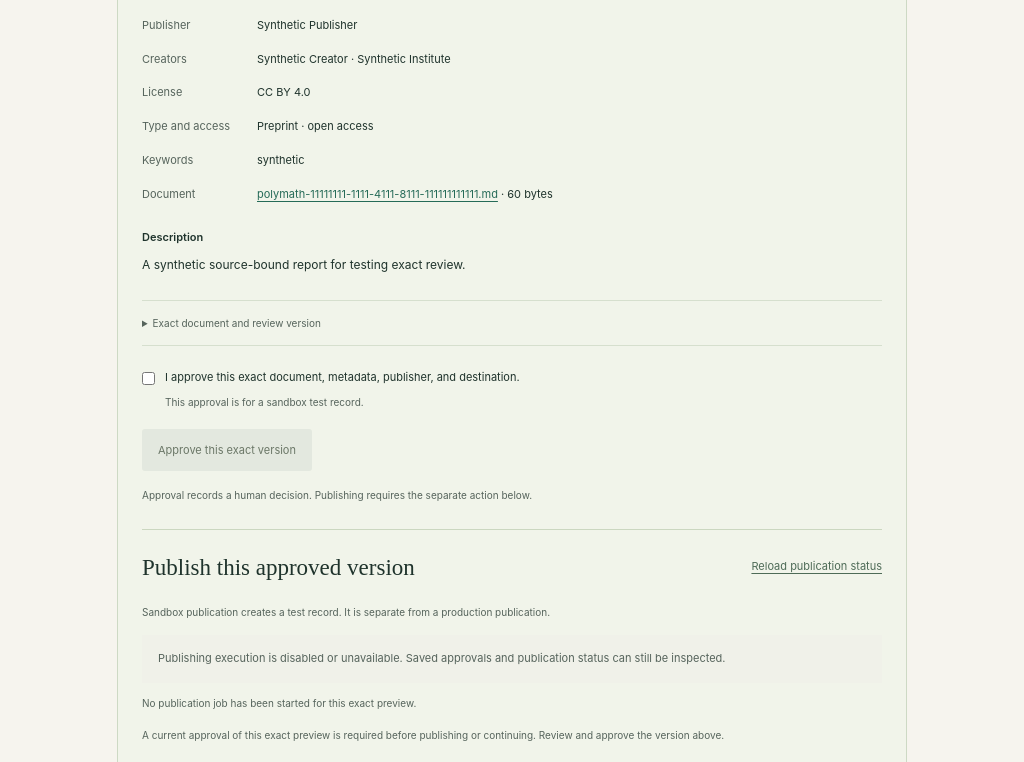
human approval of exact saved publication versions › removes a reviewed sandbox preview as soon as its destination changes
This screenshot has width=1024, height=762.
(page scrolled)
Click the checkbox labelled "I approve this exact document, metadata, publisher, and destination".
click(148, 379)  # box [142,372,155,385]
(page scrolled)
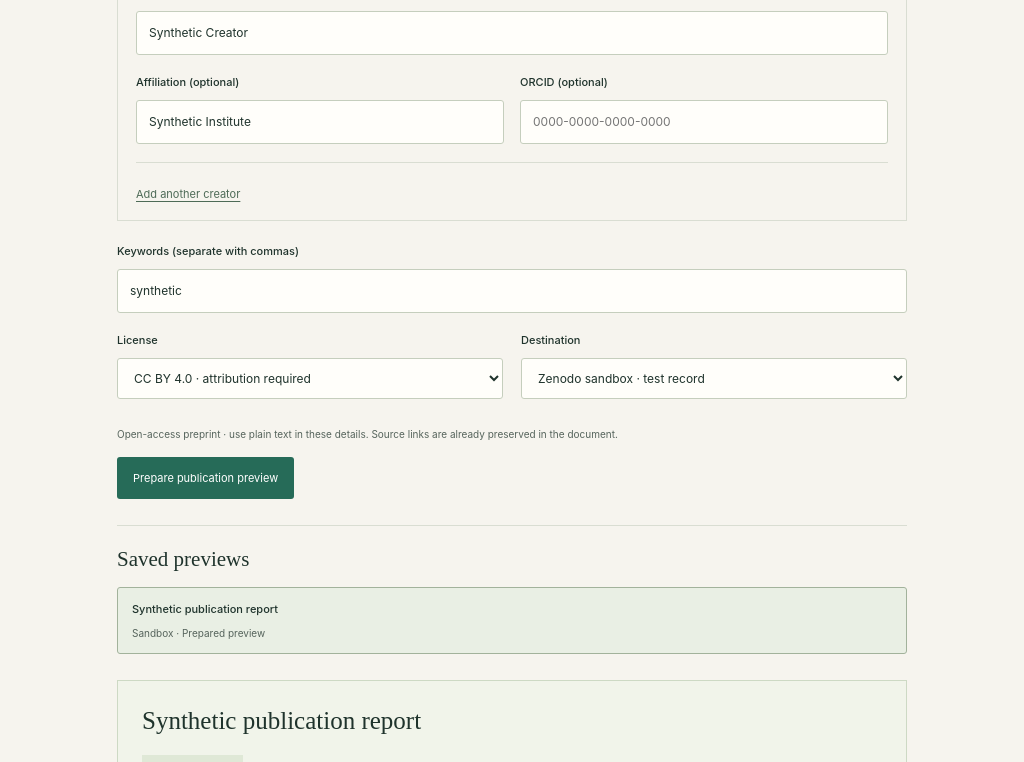
Select "Zenodo production · public record" in the dropdown labelled "Destination" at (714, 379), box [521,358,907,399]
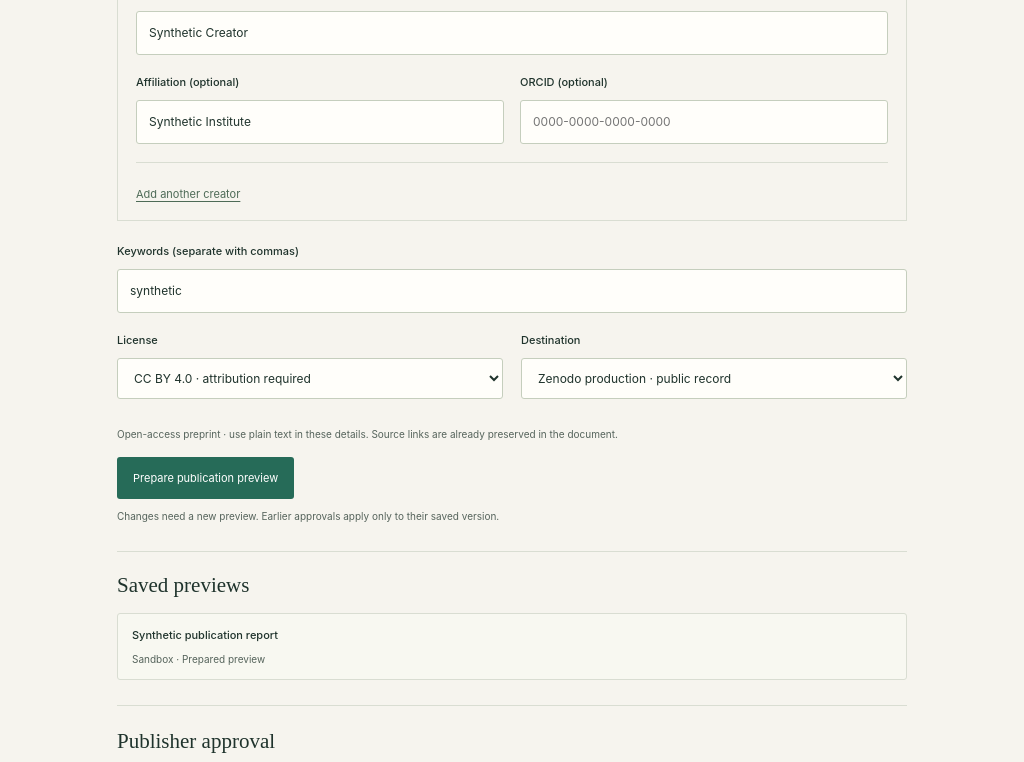
Result: the text "Changes need a new preview" is shown at [117,510,499,522]
